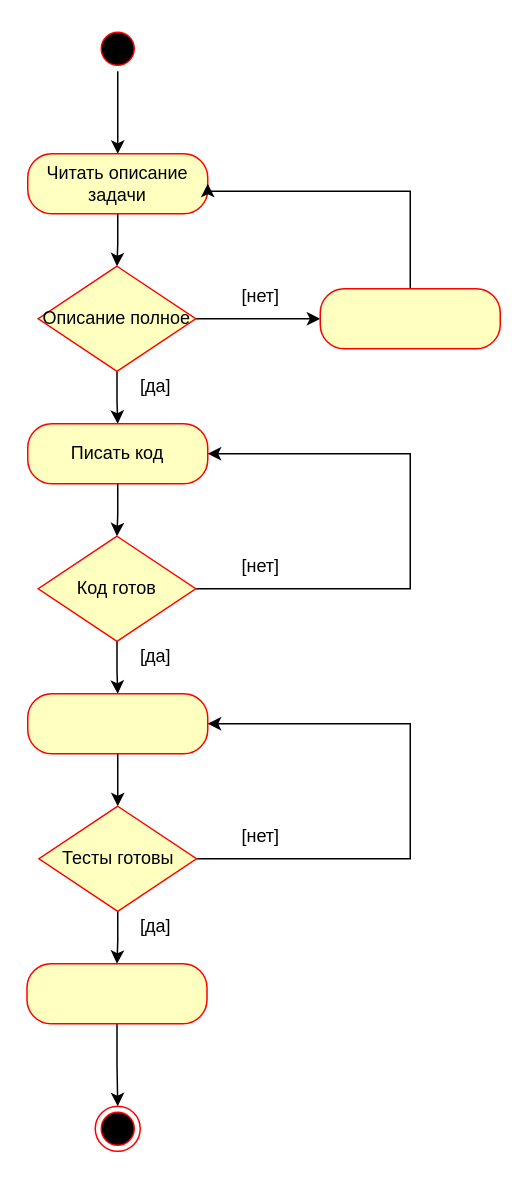
The diagram is 527 pixels wide and 1178 high, and some of its shapes have lost their labels. The centre of each missing label's shape, as x and y in pixels:
Отправить код: the point at 116,993
Писать тесты: the point at 117,723
Получить более полное описание: the point at 409,318
